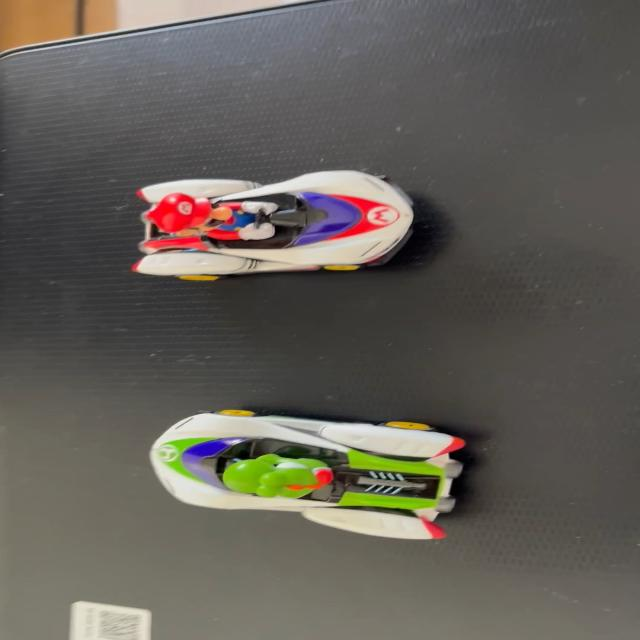mario: (117, 159, 436, 285)
yoshi: (124, 395, 490, 555)
